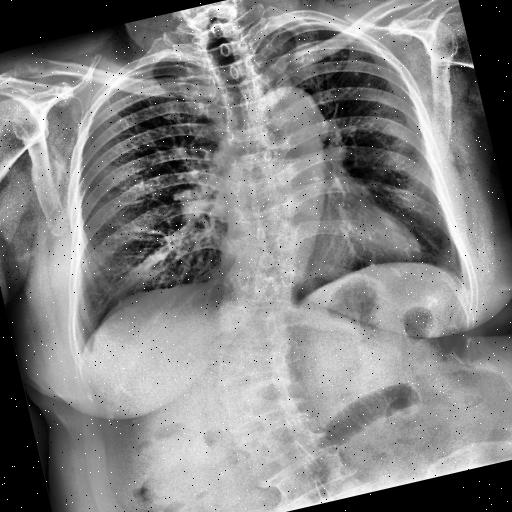0- Aortic enlargement: (255, 80, 330, 158), (248, 76, 328, 148), (260, 77, 328, 139)
10- Pleural effusion: (450, 247, 475, 293)
11- Pleural thickening: (450, 247, 475, 293), (260, 16, 316, 34), (130, 54, 180, 74)
3- Cardiomegaly: (215, 212, 425, 310)
9- Other lesion: (210, 86, 285, 252)
